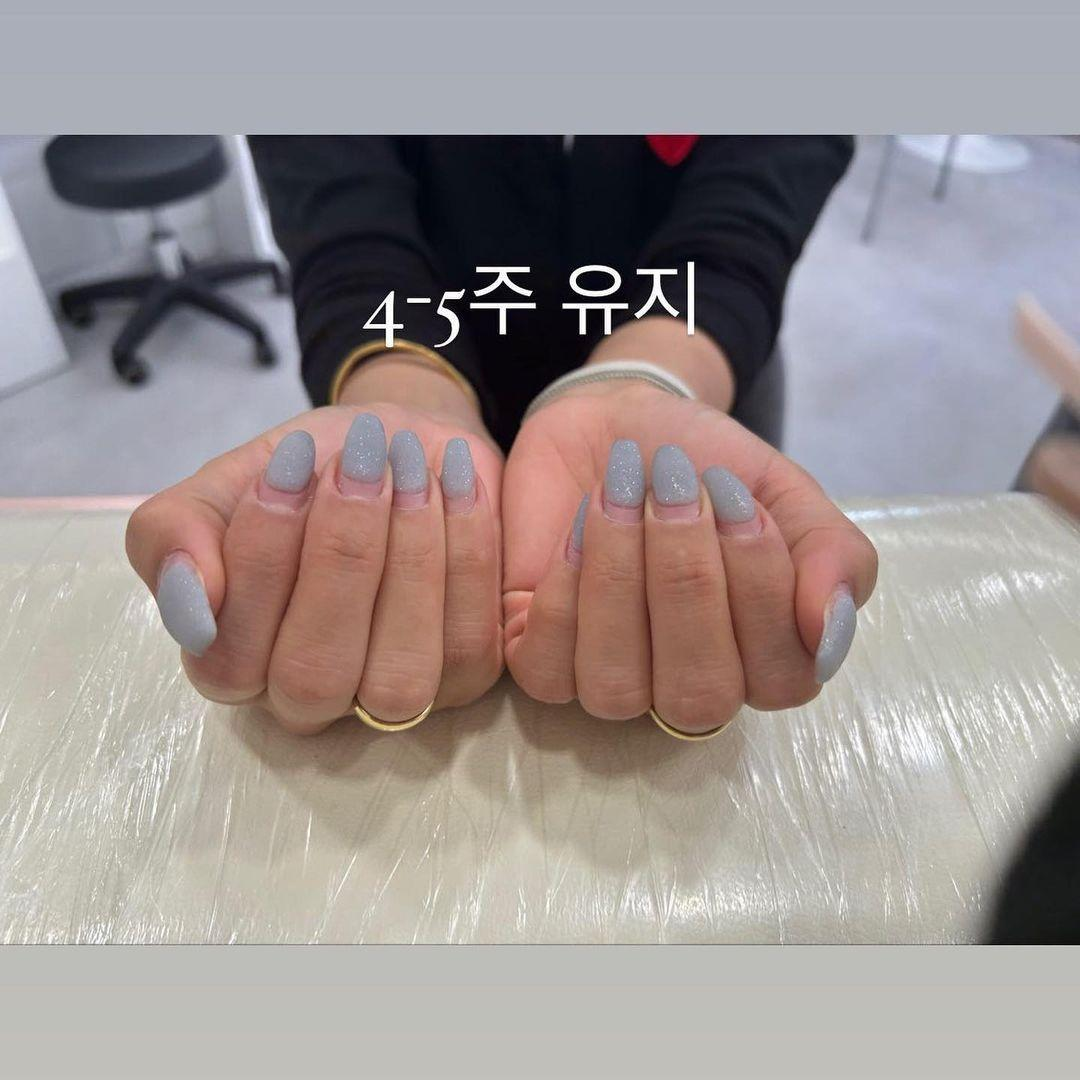nail: (154, 548, 218, 657), (812, 581, 856, 684), (339, 411, 386, 487), (601, 436, 644, 518), (264, 428, 315, 494), (388, 429, 429, 510), (702, 464, 756, 525), (651, 442, 699, 510), (439, 437, 477, 509), (564, 492, 589, 564)
